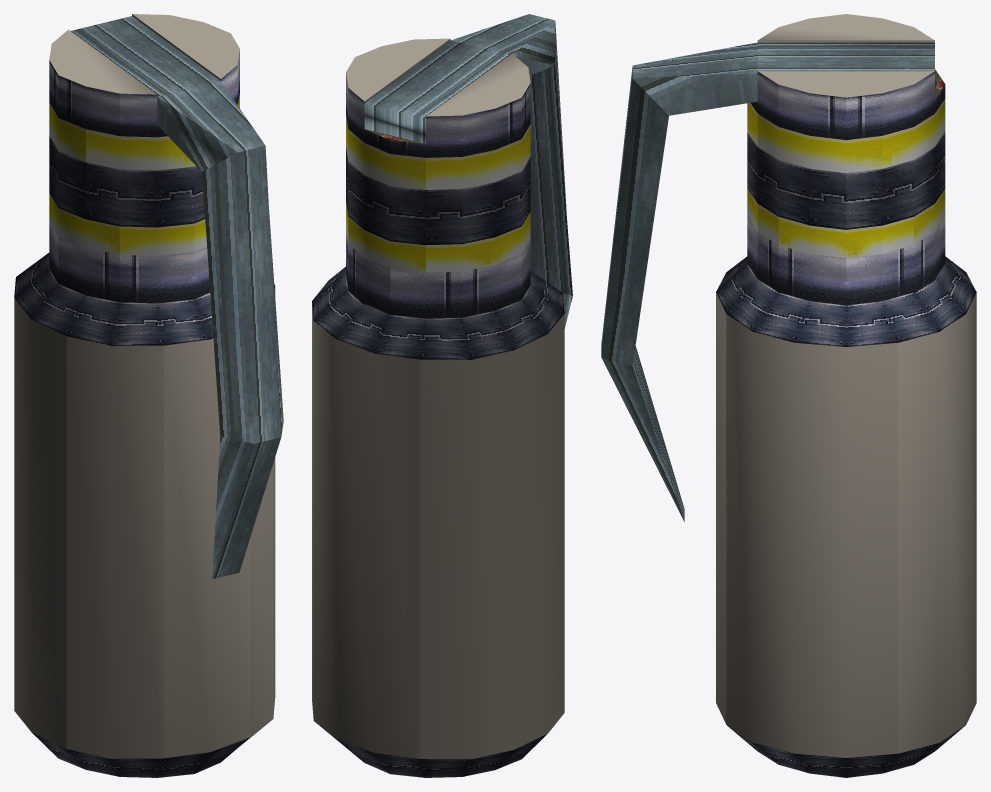
The model's file is 1d-n-bomb-fp.glb.
3 renders of one model, left to right at view 1: azimuth 30°, elevation 25°; view 2: azimuth 150°, elevation 25°; view 3: azimuth 270°, elevation 25°, orthographic. The views are drawn at different scales.
Visible parts, largest first — view 1: gun; view 2: gun; view 3: gun.
Boxes of the visible parts, x1,y1,x2,y2 form: gun: (14,14,283,777); gun: (312,14,572,777); gun: (601,14,976,777).
Size of the model in its own units: 60.1 by 173 by 86.54.
Materials: 6 (6 with a texture image).
